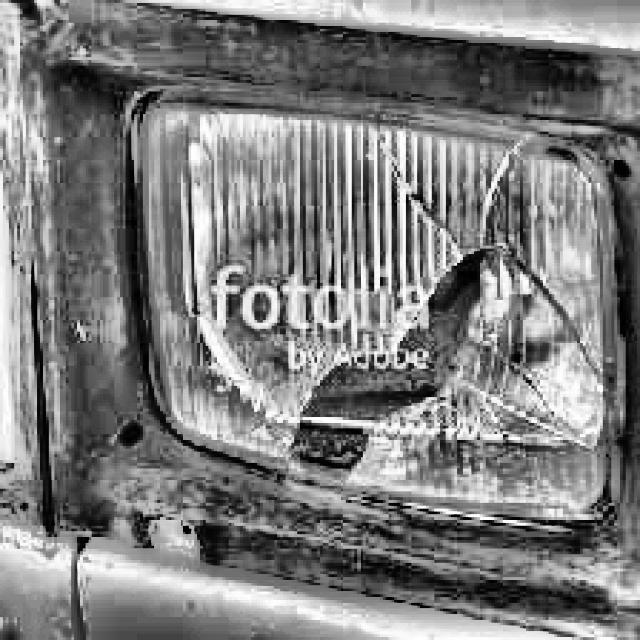head_lamp: (286, 238, 523, 496)
